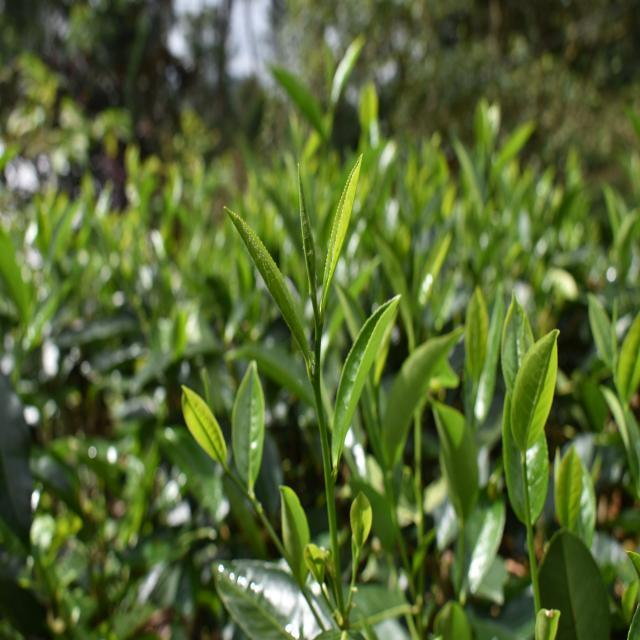Stem: (248, 494, 264, 515), (315, 325, 322, 357), (527, 527, 533, 548)
